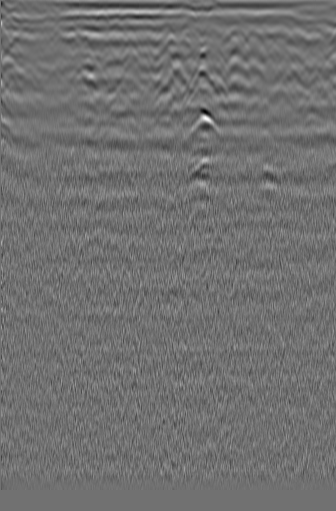가스: (186, 146, 225, 184)
상수: (281, 26, 311, 52)
오수: (0, 32, 30, 63)
우수: (133, 31, 160, 59)
